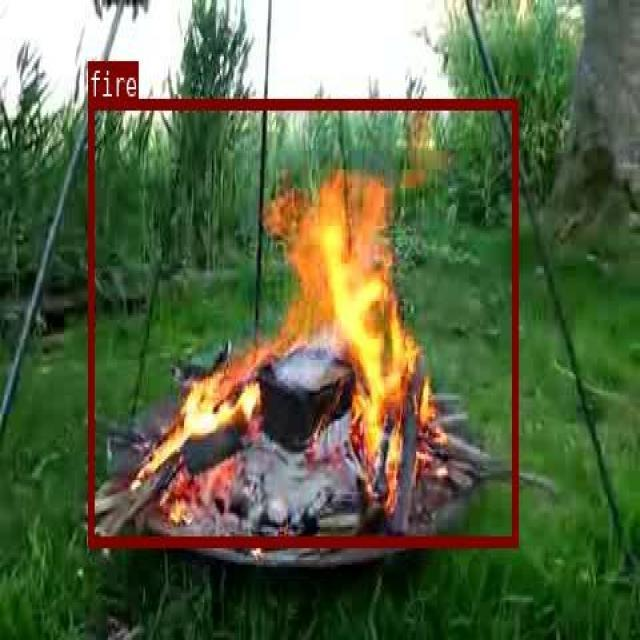fire: (88, 98, 517, 545)
